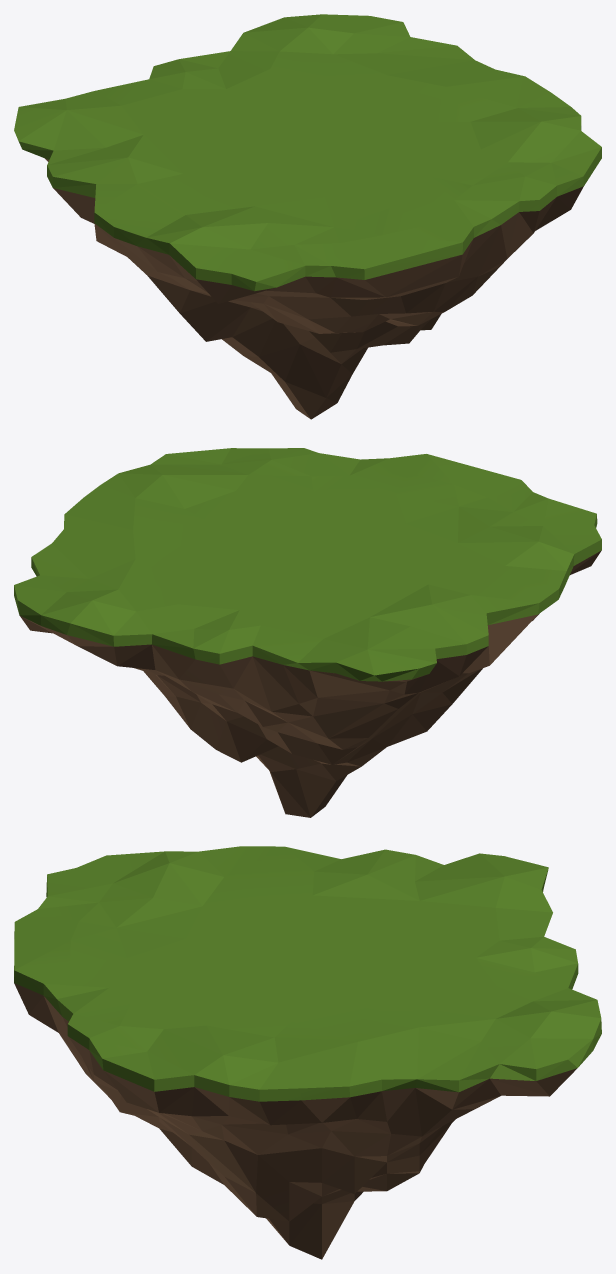
The model's file is land001.gltf.
3 views of the same model, one above another, from view 1: azimuth 30°, elevation 25°; view 2: azimuth 150°, elevation 25°; view 3: azimuth 270°, elevation 25° (orthographic). The views are drawn at different scales.
Parts seen in each view (by area): view 1: node_land001_-79130; view 2: node_land001_-79130; view 3: node_land001_-79130.
Part boxes in pixels (x1,y1,x2,y2): node_land001_-79130: (14,14,601,419); node_land001_-79130: (14,448,601,817); node_land001_-79130: (14,846,601,1259).
Size of the model in its own units: 47.93 by 27.21 by 48.85.
1 material, 1 textured.
